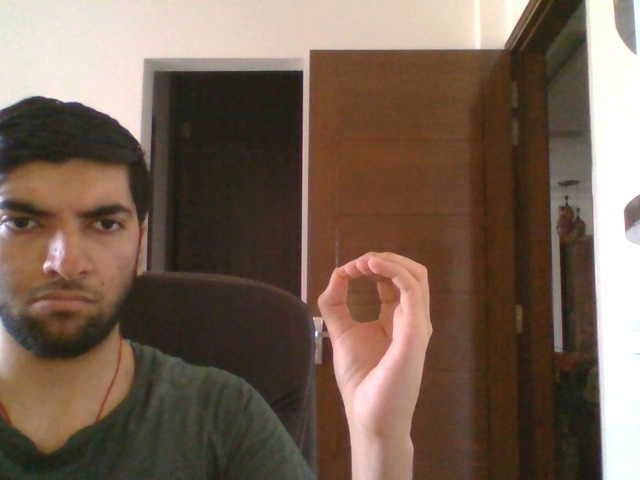LetterO: (316, 249, 432, 435)
